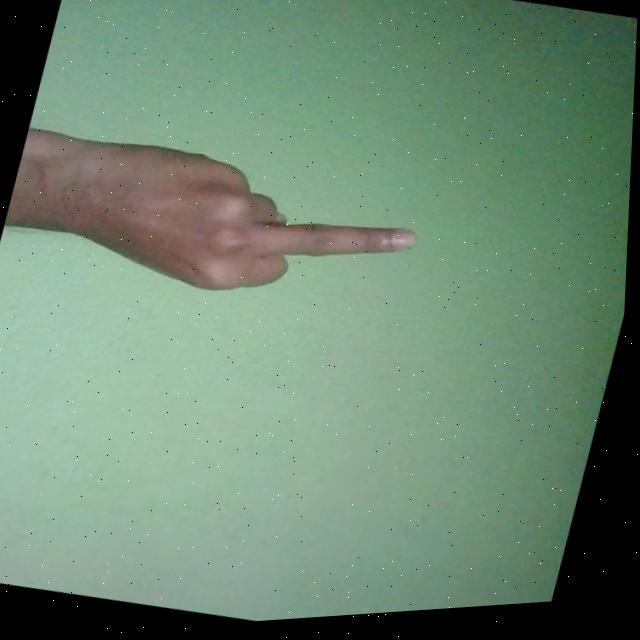Middle Finger: (10, 111, 435, 345)
